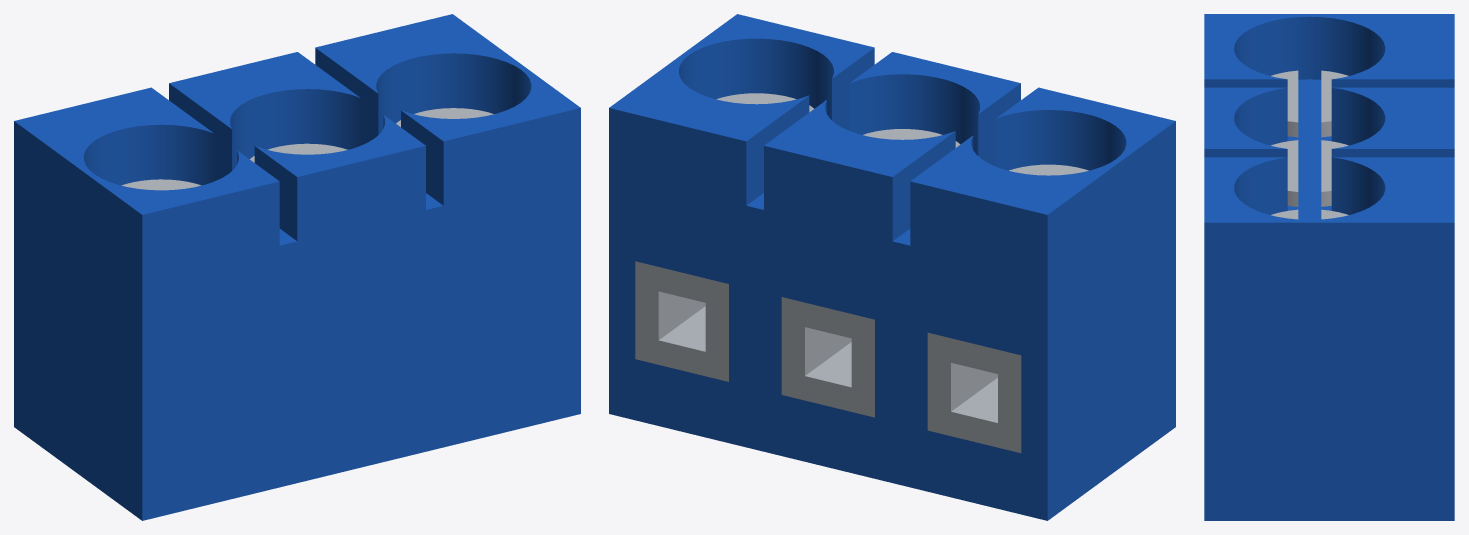
The model's file is screw-terminal-3p-5mm.glb.
The picture shows the model from 3 angles, left to right: view 1: azimuth 30°, elevation 25°; view 2: azimuth 150°, elevation 25°; view 3: azimuth 270°, elevation 25°; orthographic projection. The views are drawn at different scales.
Parts seen in each view (by area): view 1: object 1, object 2; view 2: object 1, clamp-1, clamp-3, clamp-2, object 2; view 3: object 1, object 2.
Part boxes in pixels (x1,y1,x2,y2): object 1: [14, 14, 580, 520]; object 2: [121, 108, 493, 190]; object 1: [609, 14, 1175, 520]; clamp-1: [927, 332, 1021, 452]; clamp-3: [635, 261, 728, 381]; clamp-2: [781, 297, 874, 417]; object 2: [716, 93, 1088, 175]; object 1: [1204, 14, 1454, 520]; object 2: [1271, 70, 1348, 219].
Size of the model in its own units: 0.015 by 0.01 by 0.0076.
